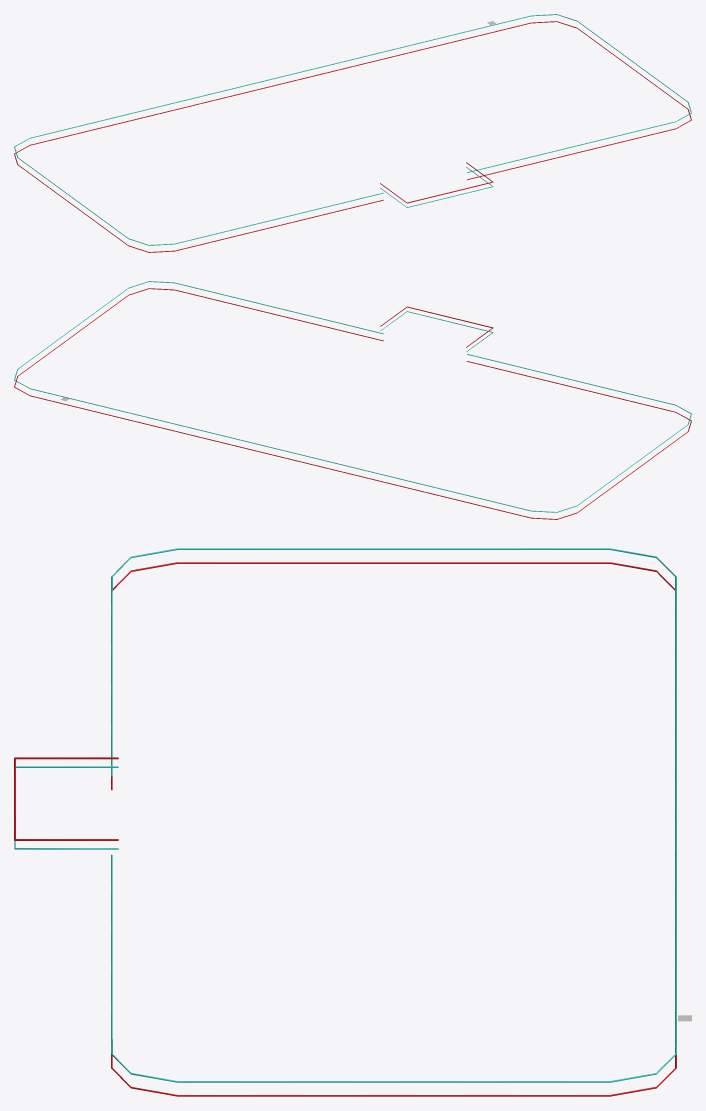
3 renders of one model, top to bottom at view 1: azimuth 30°, elevation 25°; view 2: azimuth 150°, elevation 25°; view 3: azimuth 270°, elevation 25°, orthographic. The views are drawn at different scales.
Parts seen in each view (by area): view 1: roadside-diner_lod2_neon_a, roadside-diner_lod2_neon_b; view 2: roadside-diner_lod2_neon_a, roadside-diner_lod2_neon_b; view 3: roadside-diner_lod2_neon_b, roadside-diner_lod2_neon_a.
Part boxes in pixels (x1=…): roadside-diner_lod2_neon_a: x1=14, y1=21, x2=691, y2=252; roadside-diner_lod2_neon_b: x1=14, y1=14, x2=691, y2=245; roadside-diner_lod2_neon_a: x1=14, y1=288, x2=691, y2=519; roadside-diner_lod2_neon_b: x1=14, y1=281, x2=691, y2=512; roadside-diner_lod2_neon_b: x1=14, y1=548, x2=676, y2=1082; roadside-diner_lod2_neon_a: x1=14, y1=562, x2=676, y2=1096.
Size of what is drawn, in the model's own units: 18.13 by 0.509 by 9.73.
